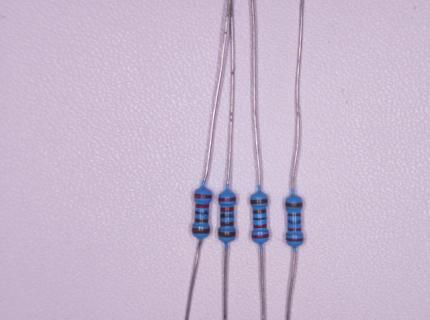Black band: (195, 210, 209, 215), (220, 213, 234, 218), (253, 216, 267, 221), (288, 220, 301, 224)
Brown band: (192, 228, 210, 234), (218, 232, 236, 238), (250, 198, 268, 204), (285, 202, 303, 207), (194, 218, 208, 224), (220, 221, 234, 227), (252, 209, 267, 214), (287, 213, 302, 217)
Red band: (194, 194, 212, 200), (252, 234, 269, 240), (220, 206, 234, 212), (253, 223, 267, 229), (218, 198, 236, 202), (286, 238, 304, 242), (195, 203, 209, 208), (287, 227, 302, 231)
